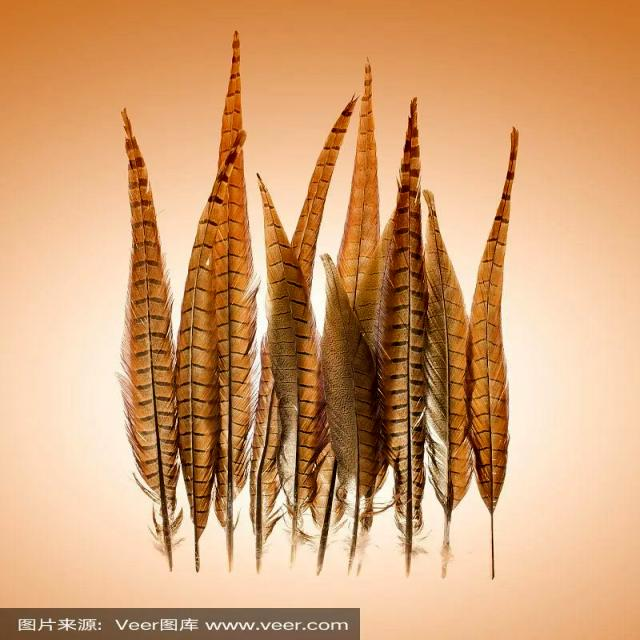Phasianus Colchicus: (121, 29, 514, 575)
